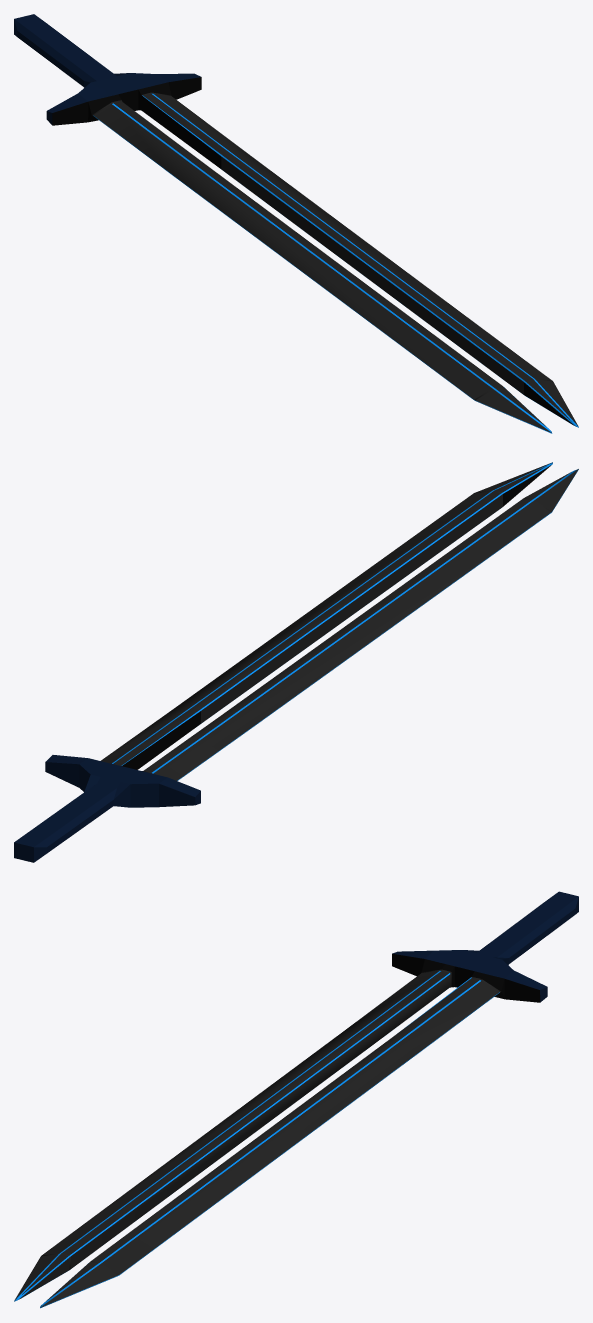
File: swordMesh.fbx
The picture shows the model from 3 angles, top to bottom: view 1: azimuth 30°, elevation 25°; view 2: azimuth 150°, elevation 25°; view 3: azimuth 330°, elevation 25°; orthographic projection.
Parts seen in each view (by area): view 1: Sword; view 2: Sword; view 3: Sword.
Part boxes in pixels (bbox=[...]): Sword: bbox=[14, 14, 578, 433]; Sword: bbox=[14, 462, 578, 862]; Sword: bbox=[14, 891, 578, 1308].
Bounding box in the file's own units: 6.18 × 0.9843 × 38.93.
